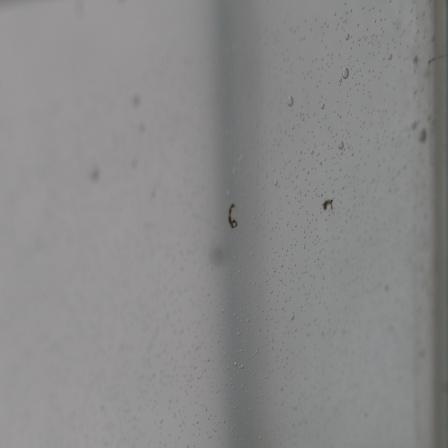Jentik-Nyamuk: (223, 199, 243, 238), (319, 193, 339, 215)
